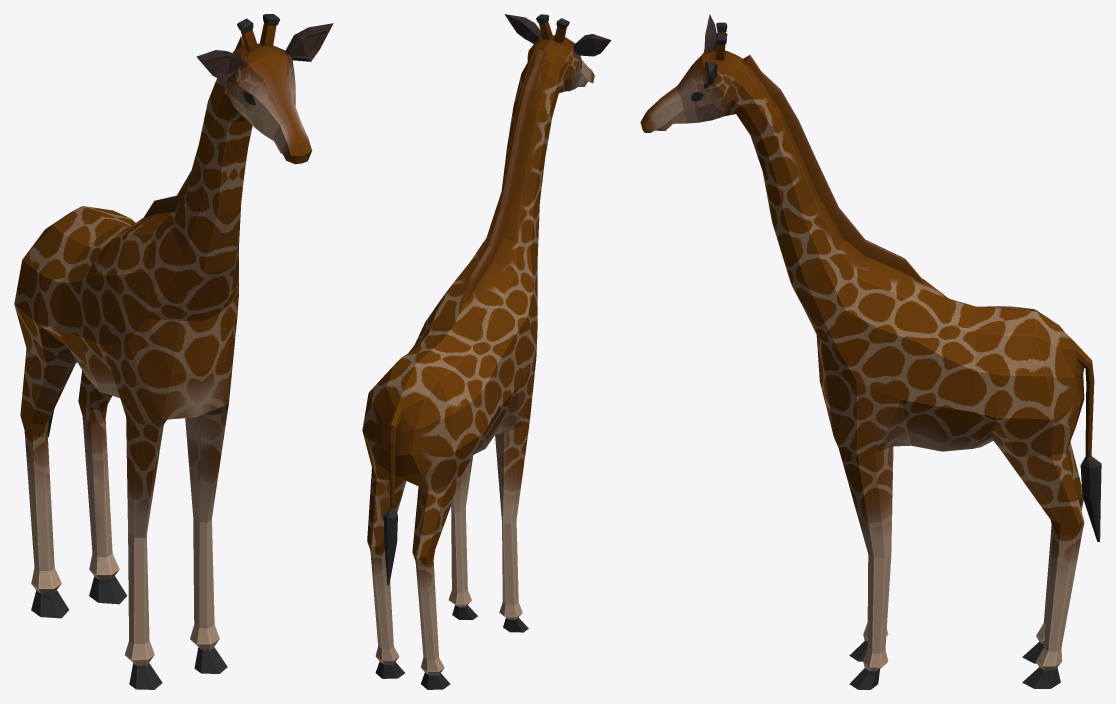
3 renders of one model, left to right at view 1: azimuth 30°, elevation 25°; view 2: azimuth 150°, elevation 25°; view 3: azimuth 270°, elevation 25°, orthographic. The views are drawn at different scales.
Visible parts, largest first — view 1: polySurface2; view 2: polySurface2; view 3: polySurface2.
Part boxes in pixels (x1=…): polySurface2: x1=14, y1=14, x2=333, y2=689; polySurface2: x1=362, y1=14, x2=611, y2=689; polySurface2: x1=640, y1=14, x2=1101, y2=689.
Bounding box in the file's own units: 4.09 × 20.35 × 13.27.
1 material, 1 textured.
